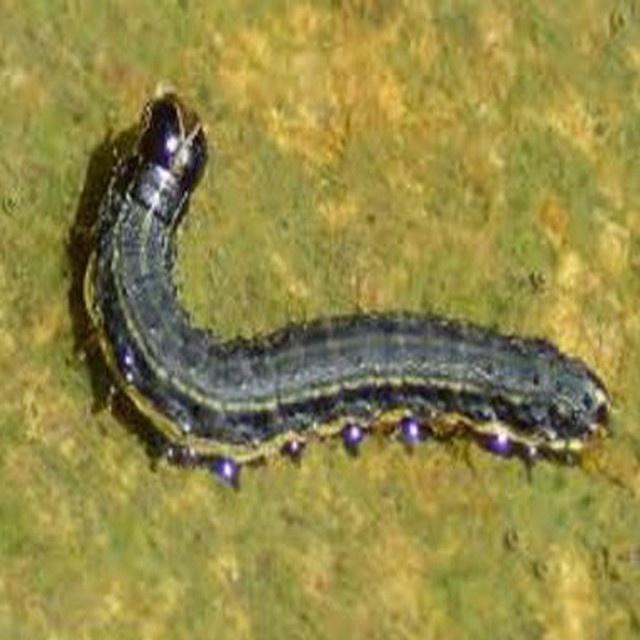gusano_cogollero: (86, 95, 608, 492)
